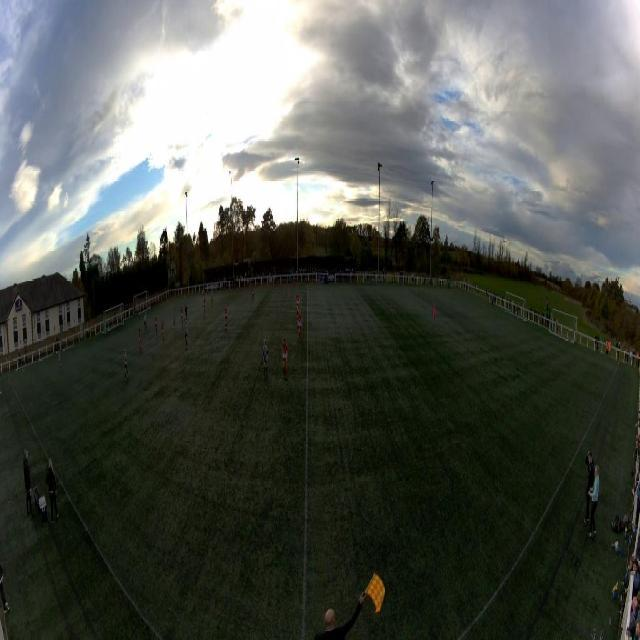player: (282, 337, 288, 378), (263, 338, 268, 379), (297, 308, 303, 342), (124, 347, 129, 381), (57, 350, 63, 372), (294, 292, 300, 311), (432, 303, 436, 328), (185, 321, 188, 349), (139, 328, 142, 354), (225, 304, 228, 329), (185, 303, 190, 318), (161, 320, 164, 342), (155, 314, 158, 335), (145, 312, 148, 333), (251, 286, 254, 302), (183, 313, 187, 325), (181, 306, 183, 327), (173, 309, 175, 328), (144, 314, 146, 332), (204, 297, 206, 315), (104, 321, 106, 337), (211, 292, 213, 304), (185, 295, 186, 306)
